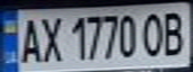0: (118, 11, 142, 60)
1: (66, 12, 87, 61)
7: (84, 12, 103, 61), (103, 11, 121, 61)
A: (15, 13, 45, 64)
B: (157, 7, 190, 57)
O: (139, 9, 169, 58)
X: (36, 12, 66, 63)
